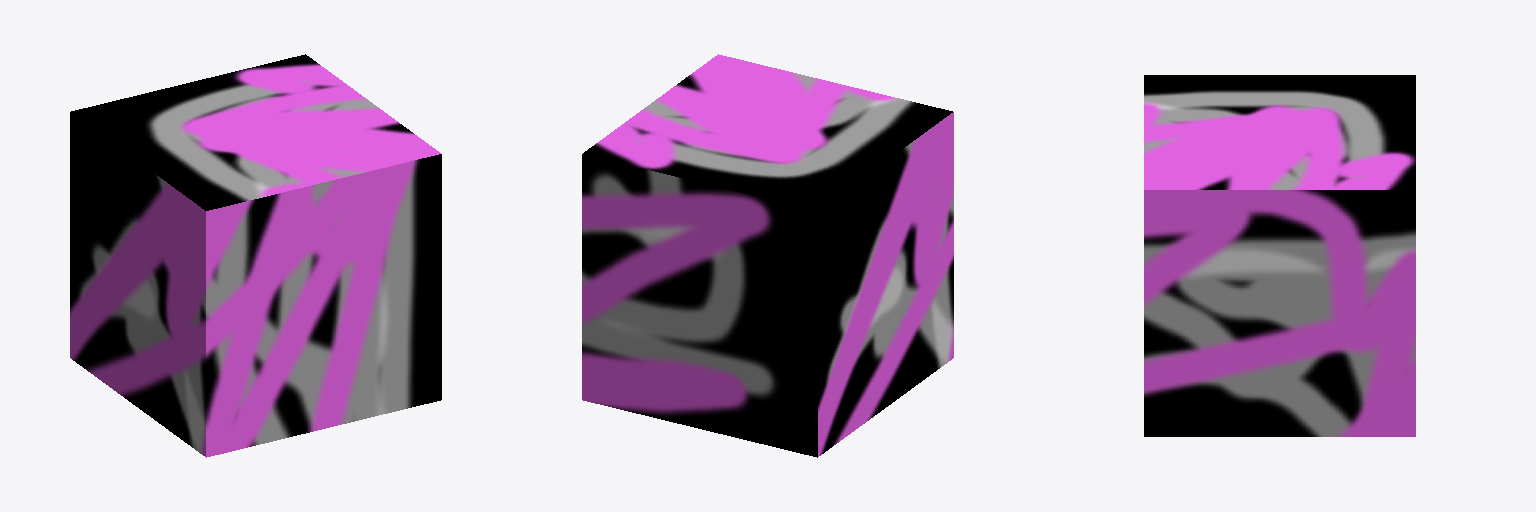
The picture shows the model from 3 angles: view 1: azimuth 30°, elevation 25°; view 2: azimuth 150°, elevation 25°; view 3: azimuth 270°, elevation 25°; orthographic projection.
Parts seen in each view (by area): view 1: Cube1; view 2: Cube1; view 3: Cube1.
Part boxes in pixels (bbox=[...]): Cube1: bbox=[70, 54, 441, 457]; Cube1: bbox=[582, 54, 953, 457]; Cube1: bbox=[1144, 75, 1415, 436].
Size of the model in its own units: 2 by 2 by 2.
1 materials, 1 textured.